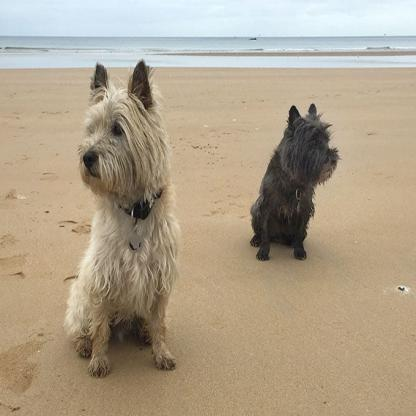Cairn Terrier: (64, 53, 191, 386), (253, 91, 347, 266)
